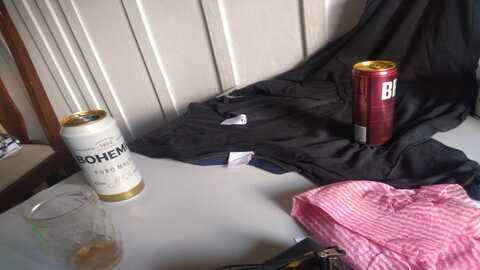bohemia: (51, 114, 153, 203)
duplo_malte: (349, 57, 397, 151)
